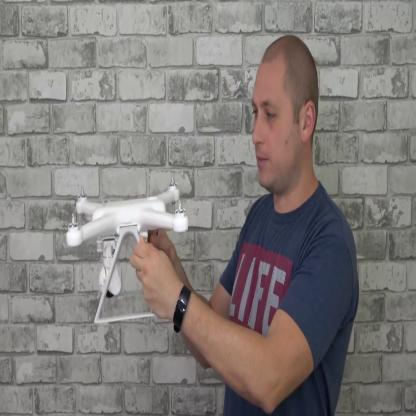drone: (63, 180, 206, 241)
